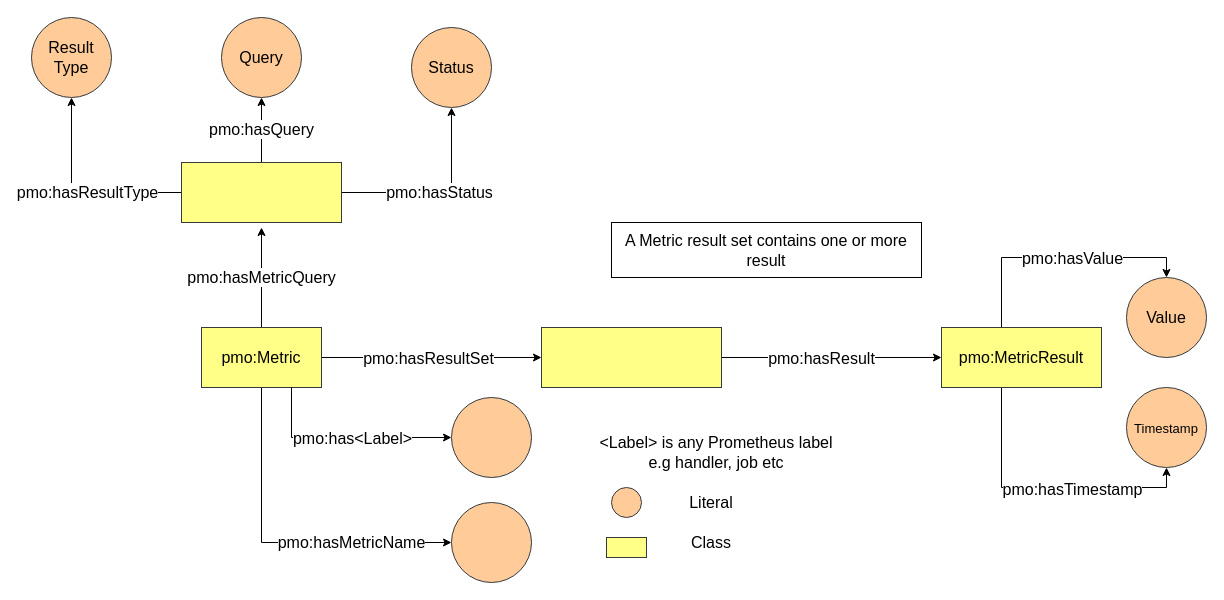
This 1224x600 diagram has some shape labels left out. The shapes that lost their labels are listed below. From the top down, each one's centre as x and y in pixels, then its label:
(261,192): pmo:MetricQuery
(631,357): pmo:MetricResultSet
(491,437): Metric <Label>
(491,542): Metric Name
